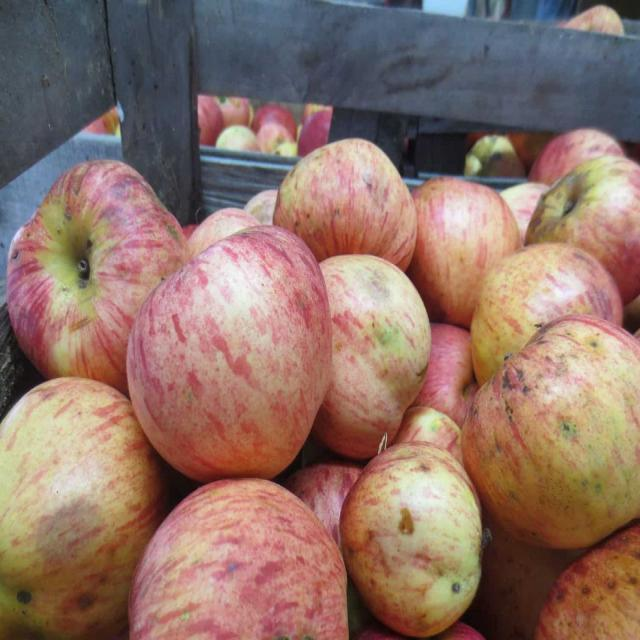Fresh Apple: (125, 230, 325, 470), (126, 473, 349, 640), (12, 167, 175, 393), (466, 331, 640, 541), (302, 260, 426, 455), (280, 138, 415, 272), (398, 172, 514, 320)
